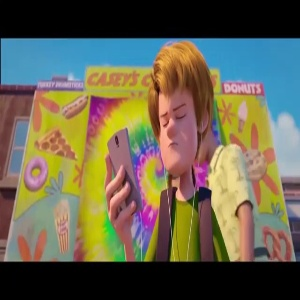Shagy: (145, 34, 216, 179)
